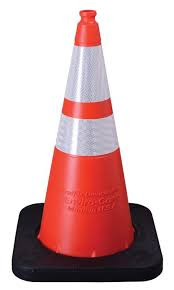cones: (13, 8, 163, 282)
